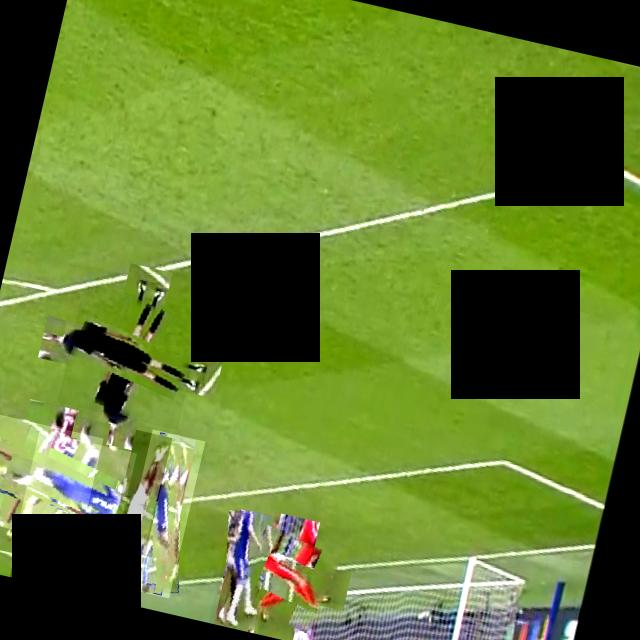goalkeeper: (232, 523, 340, 631)
referee: (56, 282, 203, 428)
soccer-player: (115, 428, 204, 597), (15, 430, 135, 550), (0, 412, 102, 543), (102, 428, 171, 579), (53, 488, 153, 588), (207, 506, 278, 632), (102, 548, 148, 606), (8, 534, 58, 584)
